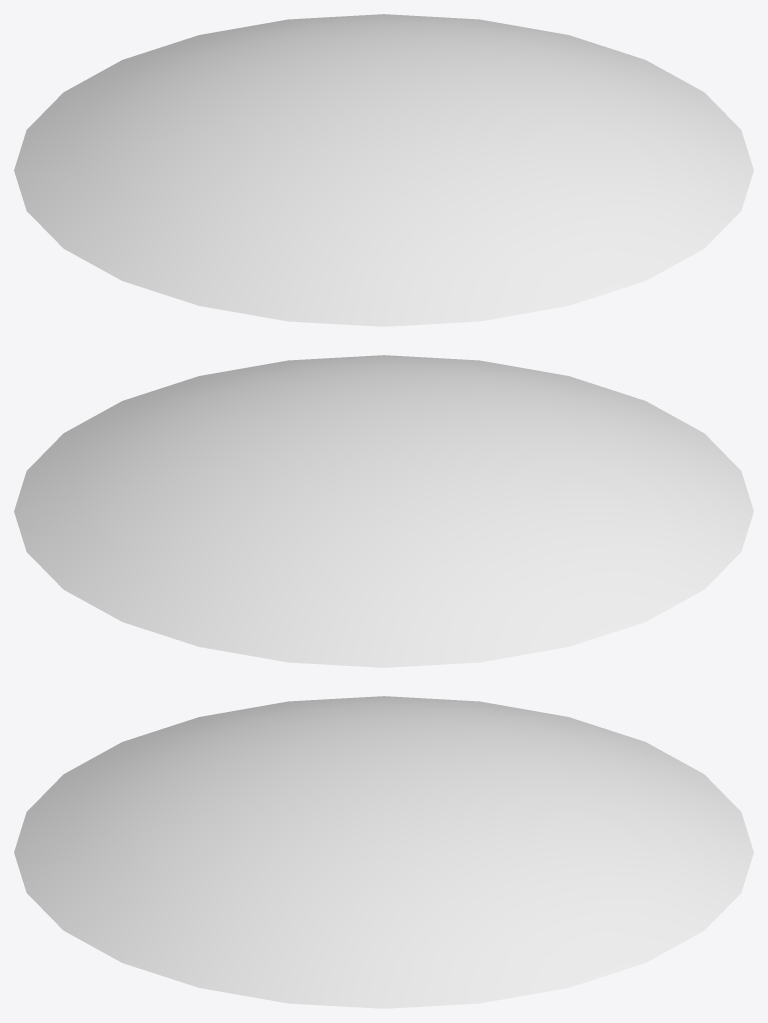
Rendered from Lamp.obj.
3 renders of one model, top to bottom at view 1: azimuth 30°, elevation 25°; view 2: azimuth 150°, elevation 25°; view 3: azimuth 270°, elevation 25°, orthographic.
Parts seen in each view (by area): view 1: Mesh1_Model.001; view 2: Mesh1_Model.001; view 3: Mesh1_Model.001.
Part boxes in pixels (x1,y1,x2,y2): Mesh1_Model.001: (14,14,753,326); Mesh1_Model.001: (14,355,753,667); Mesh1_Model.001: (14,696,753,1008).
Size of the model in its own units: 1.36 by 0.15 by 1.36.
Materials: 1 (1 with a texture image).
